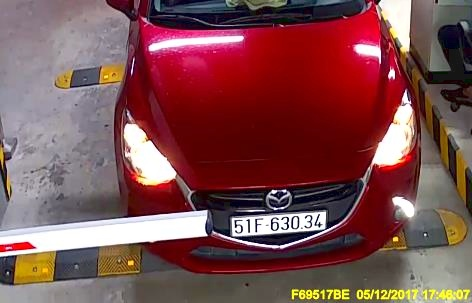plate: (225, 206, 330, 236)
